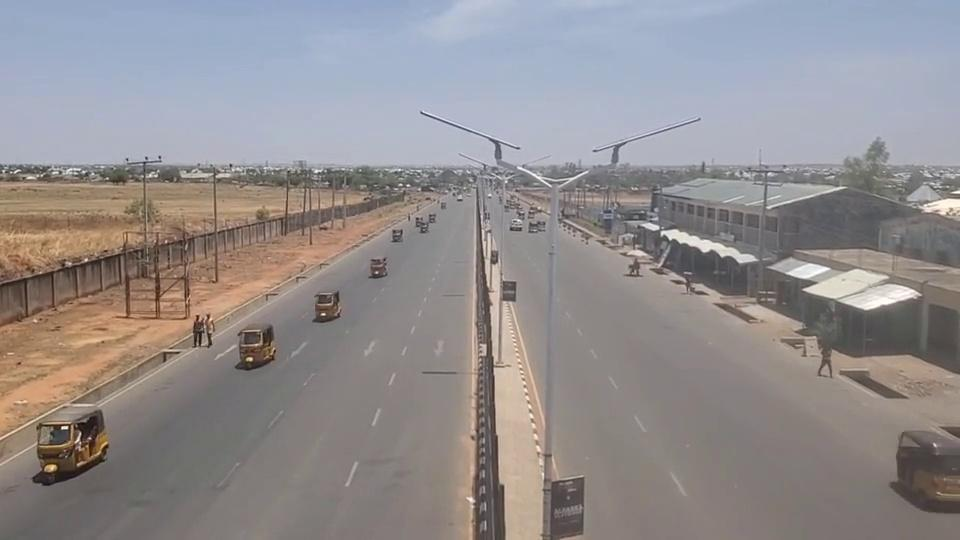keke: (35, 403, 109, 476), (896, 429, 960, 512), (236, 323, 276, 369), (313, 290, 341, 320), (370, 254, 389, 277)
